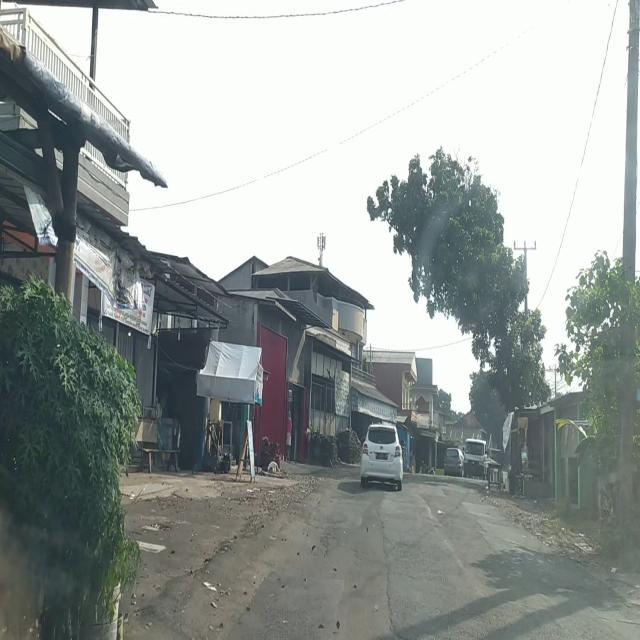Drain Hole: (319, 528, 336, 557)
